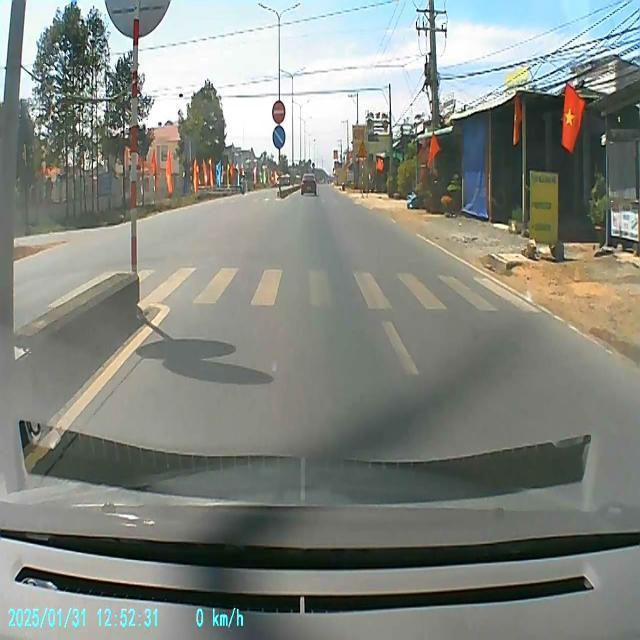102-cam-di-nguoc-chieu: (272, 100, 286, 124)
302a-huong-phai-di-vong-chuong-ngai-vat-1: (272, 124, 286, 150)
